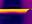Hotspot: (0, 9, 29, 13)
